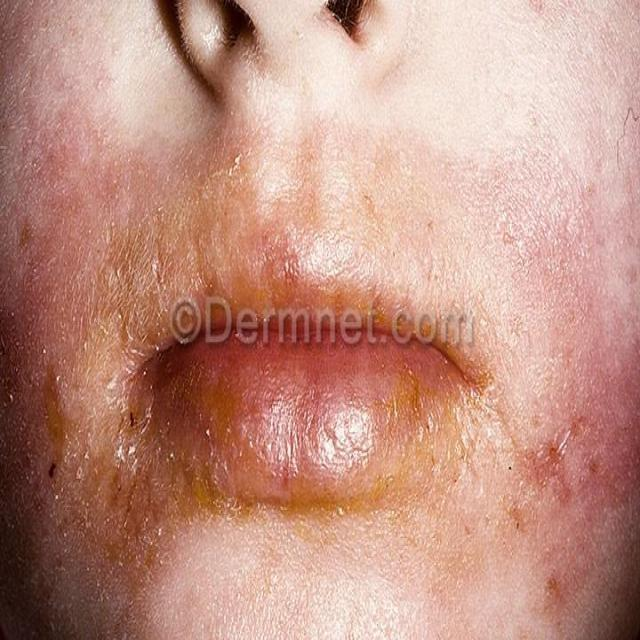Eczema: (20, 158, 587, 588)
